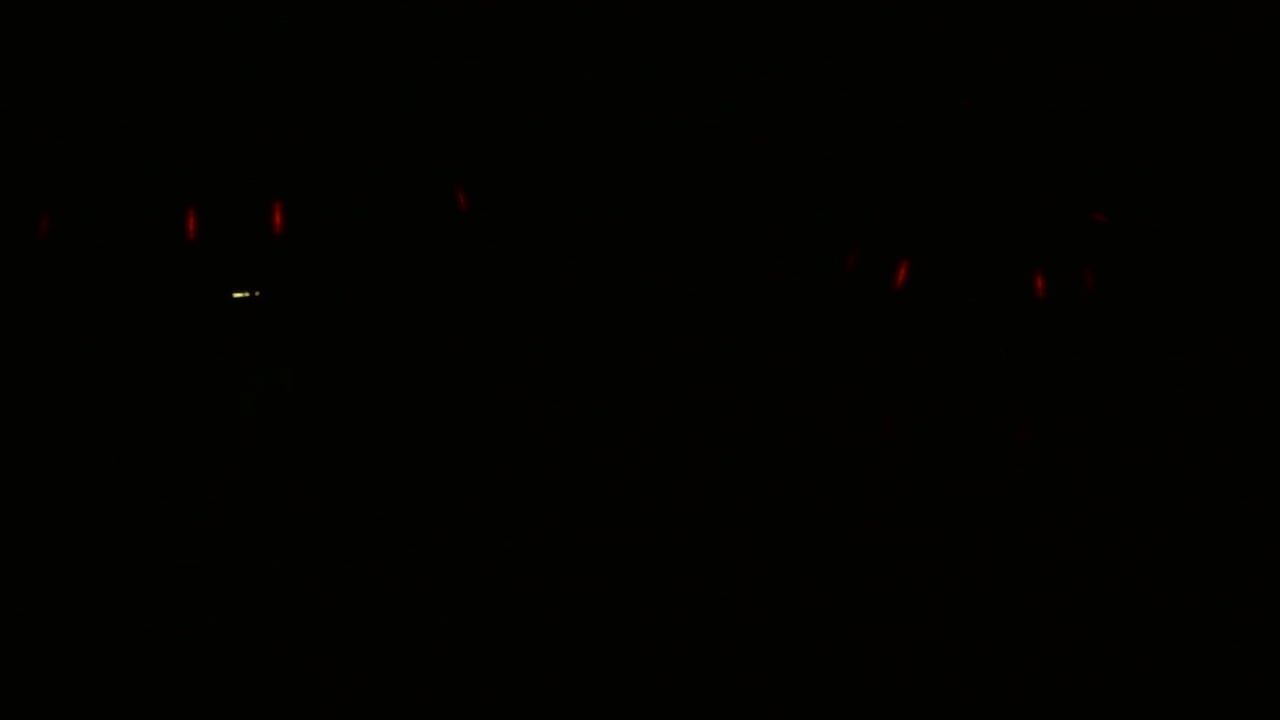pair1: (180, 198, 290, 241), (1033, 269, 1079, 299)
